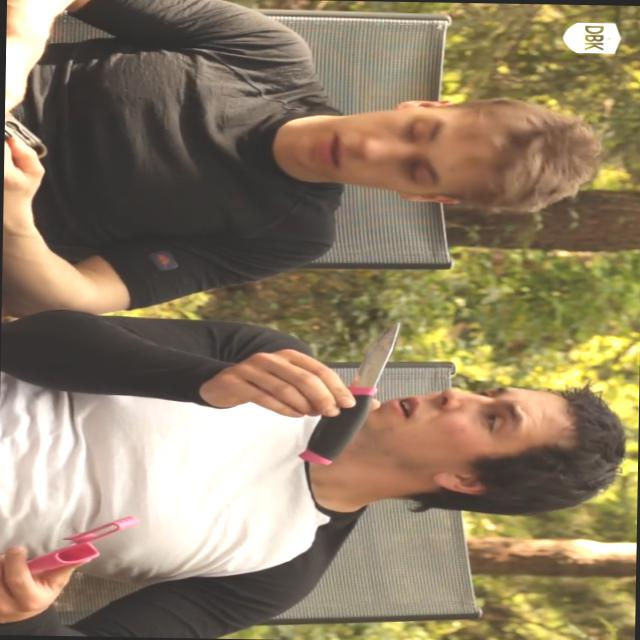knife: (282, 317, 408, 472)
